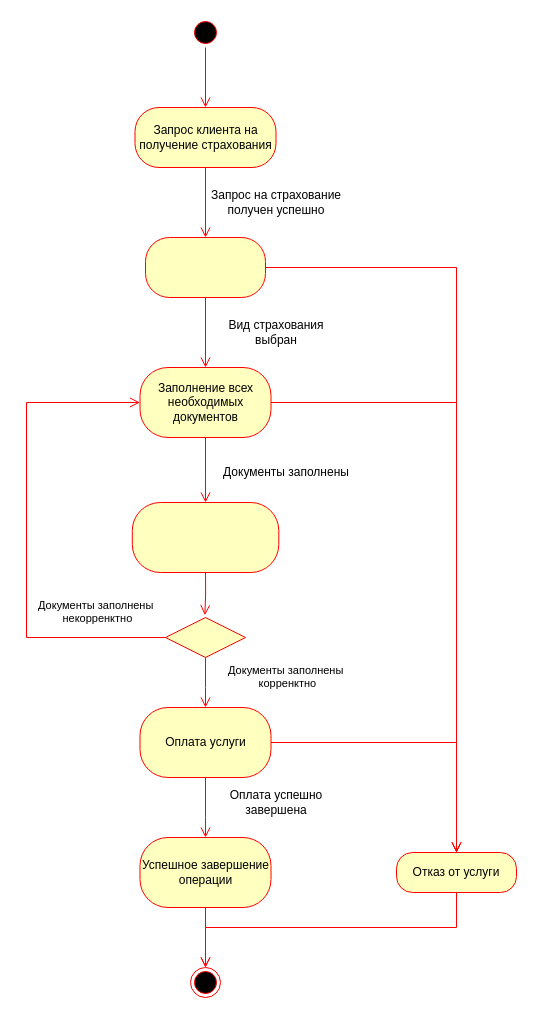
Image size: 534x1015. Some labels were removed from this diagram. Here are the shapes that lost their labels. From the top down, the centre of each, then its label:
At point 205,267: "Выбор вида страхования".
At point 205,537: "Проверка на коррекнтое заполнение документов".
